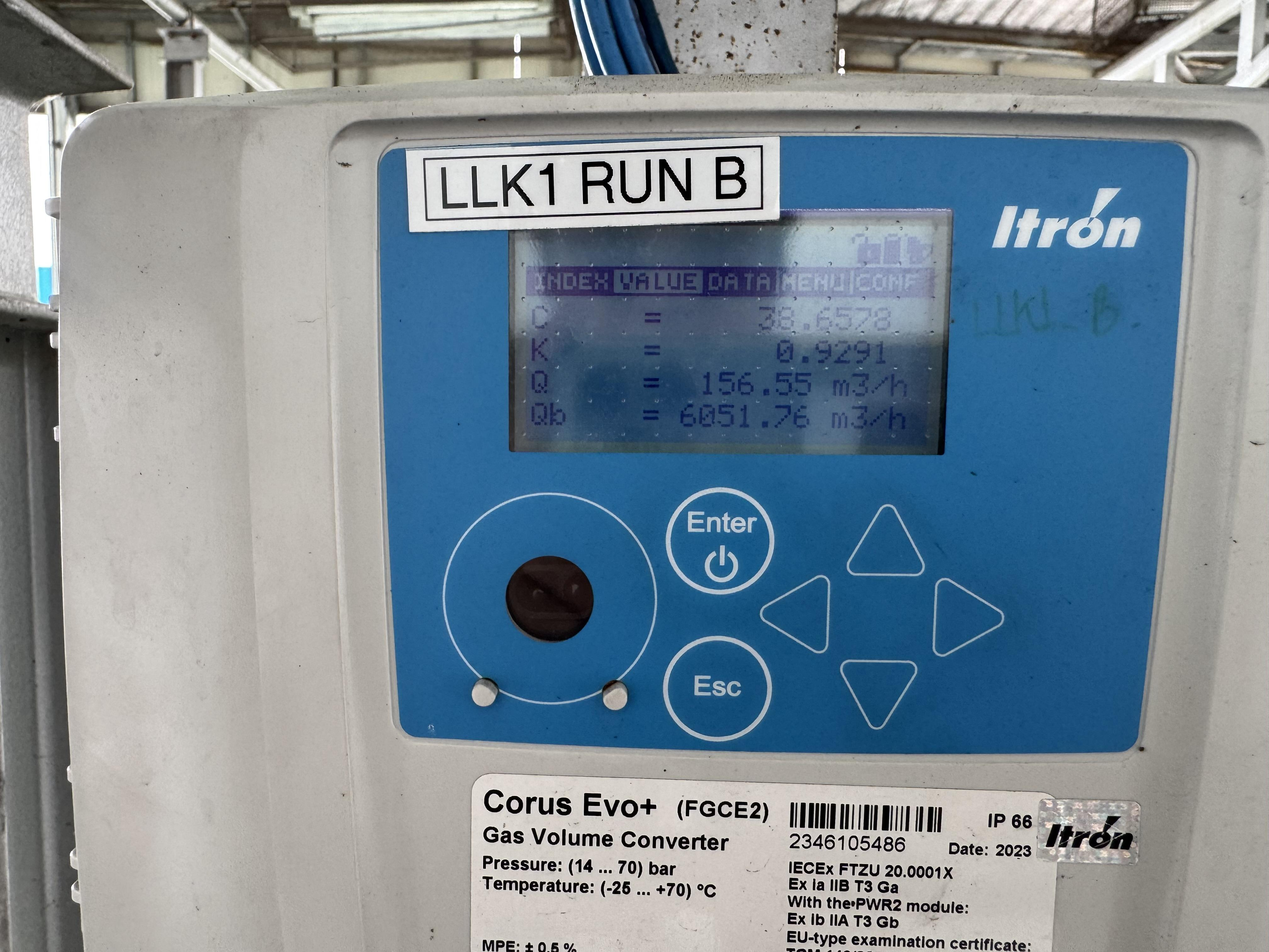digital_screen: (508, 208, 953, 454)
